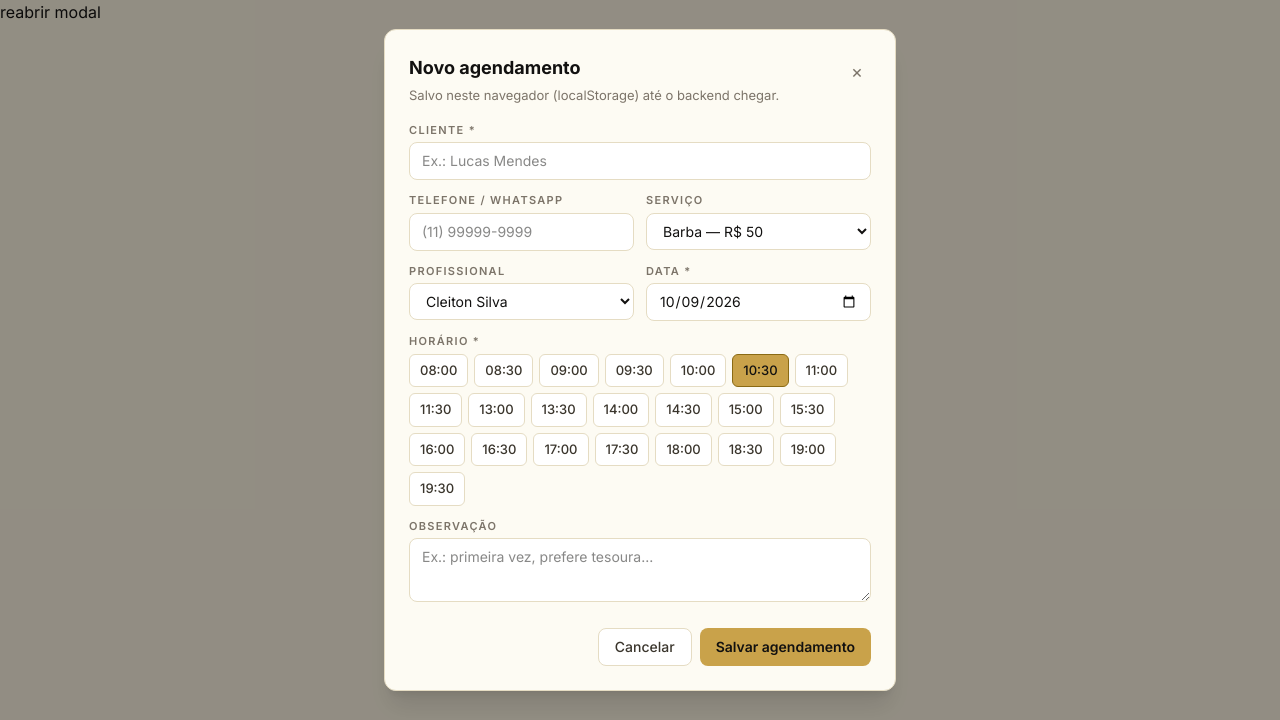
NovoAgendamentoModal — conflito de horários › bloqueia sobreposição parcial (10:00 de 40min + 10:30)
Type "Ana Souza" into the field labelled "Cliente *". click: (640, 161)
box: [409,142,871,180]
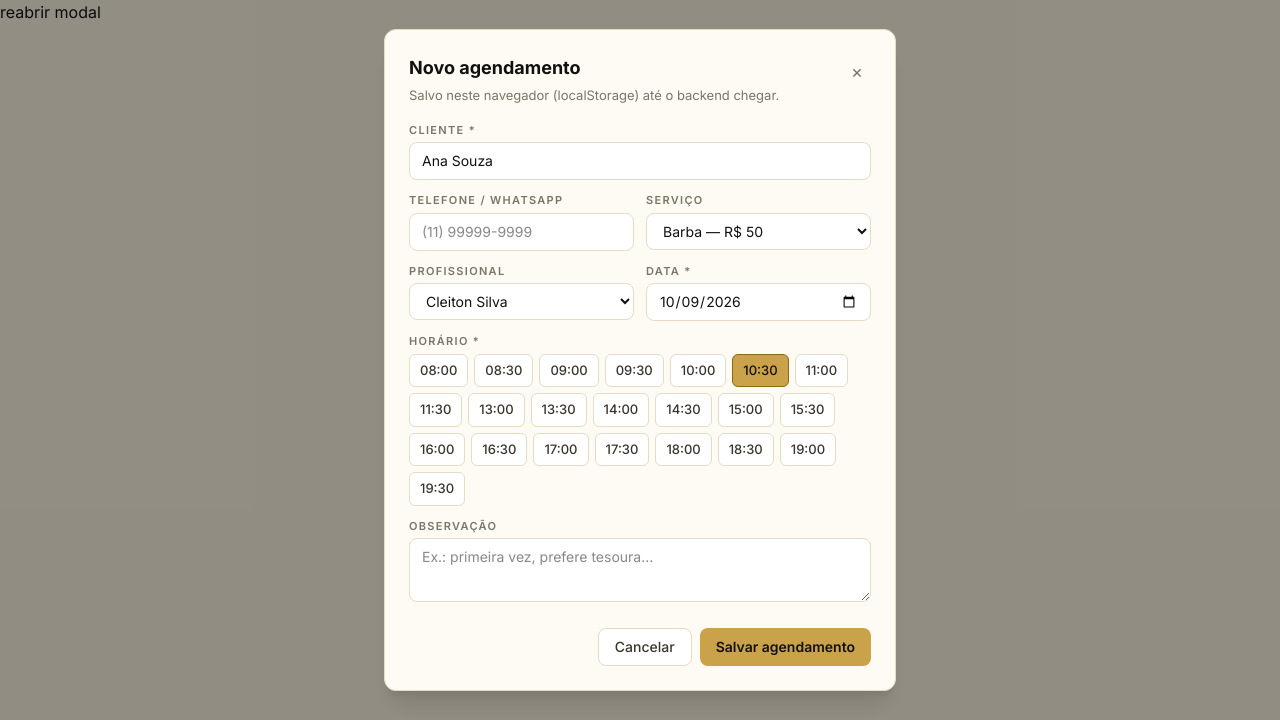
Click the button "Salvar agendamento". click: (785, 647)
box: [700,628,871,666]
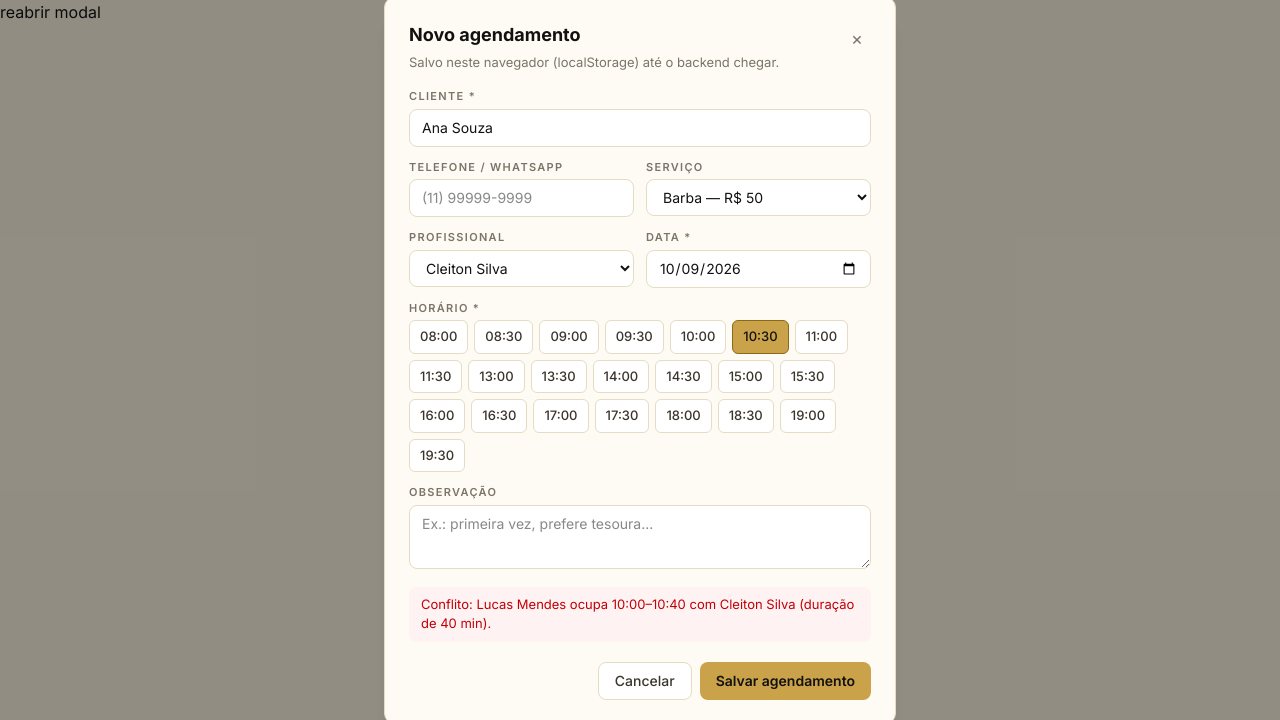
Expected: the text "10:00–10:40" is shown, [421,596,854,631]
